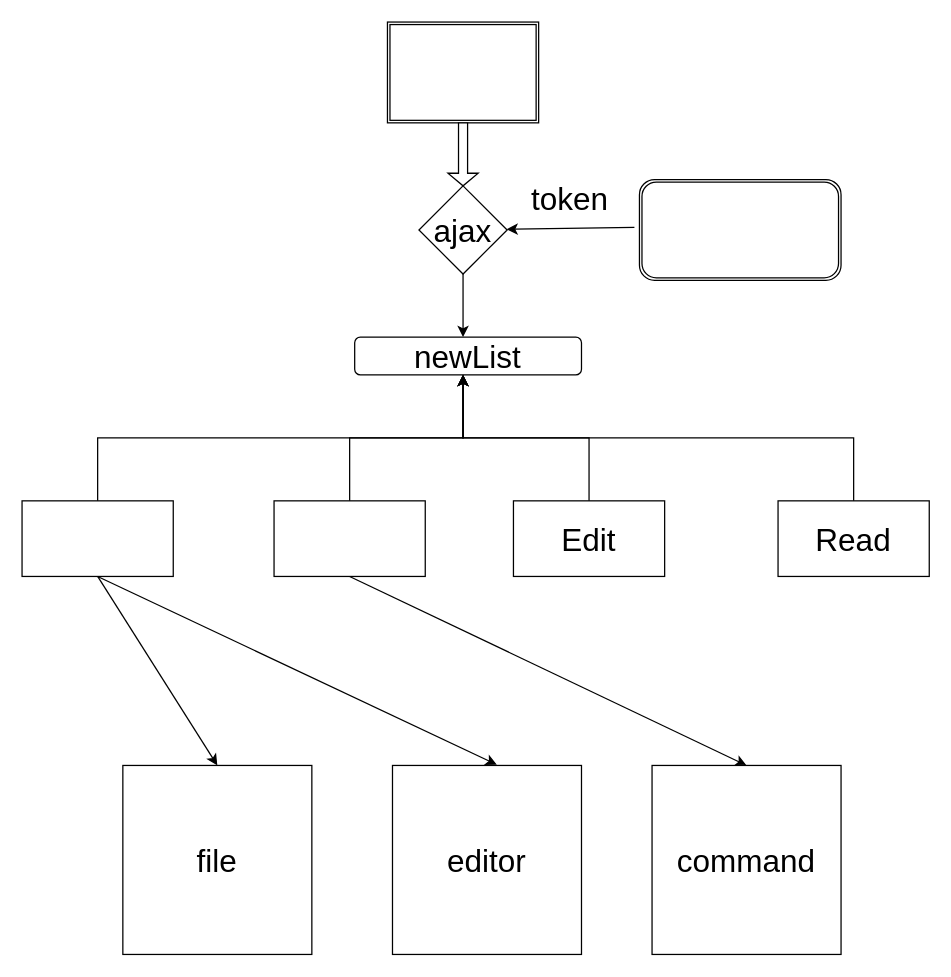
The diagram is 951 pixels wide and 977 high, and some of its shapes have lost their labels. Here are the shapes that lost their labels. From the top down, the centre of each, then its label:
pixel 462 72: gists
pixel 739 229: globalState
pixel 97 538: Create
pixel 349 538: Delete
